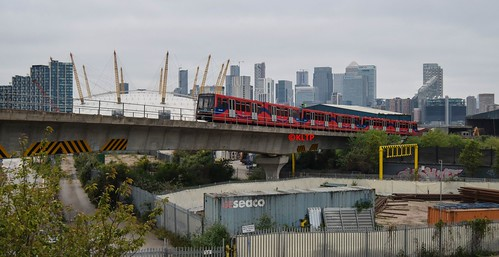bridge: (8, 113, 372, 171)
building: (30, 60, 72, 110), (336, 62, 376, 103), (224, 60, 255, 98), (421, 59, 445, 99), (255, 57, 273, 102), (294, 68, 316, 103), (313, 66, 335, 101), (1, 75, 25, 107), (274, 75, 294, 104)
container: (211, 180, 382, 257)
sky: (1, 1, 484, 84)
train: (193, 95, 423, 137)
